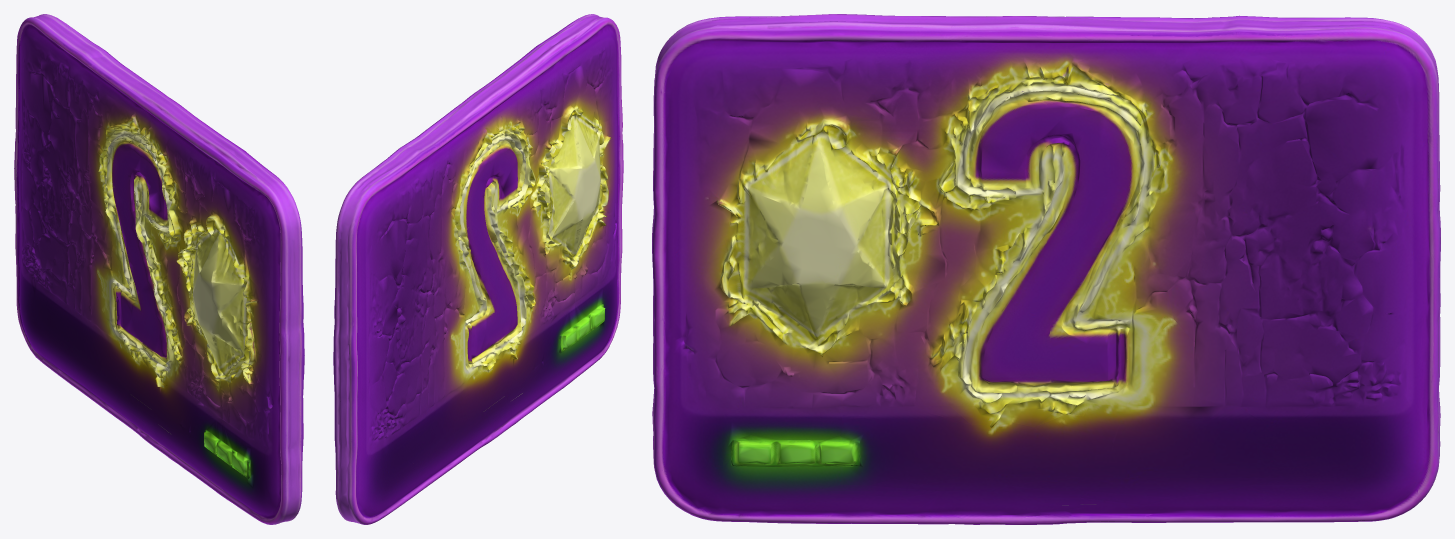
Rendered from Tarjeta2.fbx.
3 views of the same model, side by side, from view 1: azimuth 30°, elevation 25°; view 2: azimuth 150°, elevation 25°; view 3: azimuth 270°, elevation 25° (orthographic). The views are drawn at different scales.
Parts seen in each view (by area): view 1: tripo_node_afda0589; view 2: tripo_node_afda0589; view 3: tripo_node_afda0589.
Boxes of the visible parts, x1,y1,x2,y2 form: tripo_node_afda0589: (14, 14, 304, 524); tripo_node_afda0589: (333, 14, 623, 524); tripo_node_afda0589: (652, 14, 1440, 524).
Bounding box in the file's own units: 0.1376 × 0.7017 × 0.9999.
Materials: 1 (1 with a texture image).
